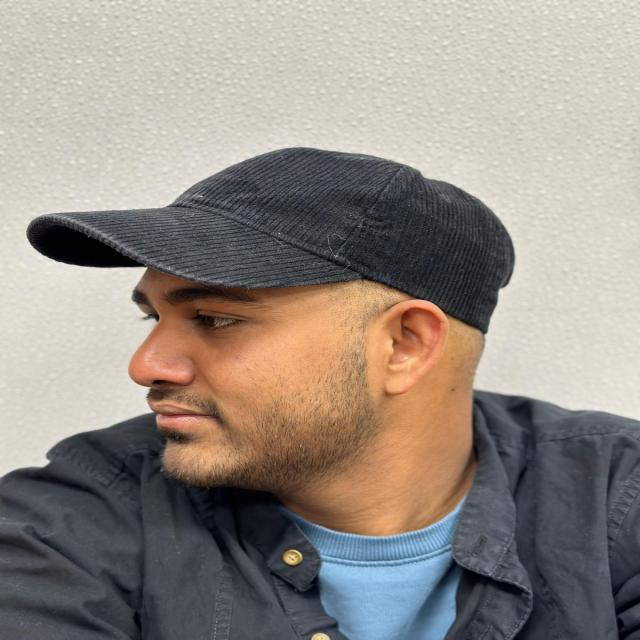cap: (15, 126, 581, 340)
